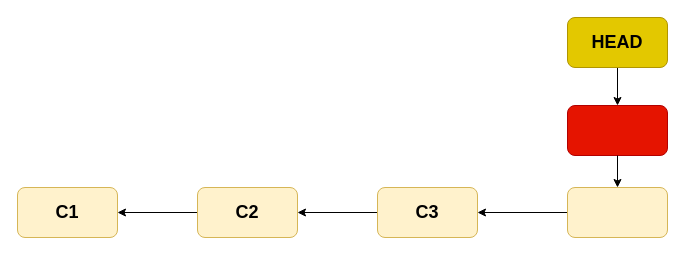
The diagram is 685 pixels wide and 255 high, and some of its shapes have lost their labels. Here are the shapes that lost their labels. From the top down, the centre of each, then its label:
At pixel 617 130: "master".
At pixel 617 212: "C4".
